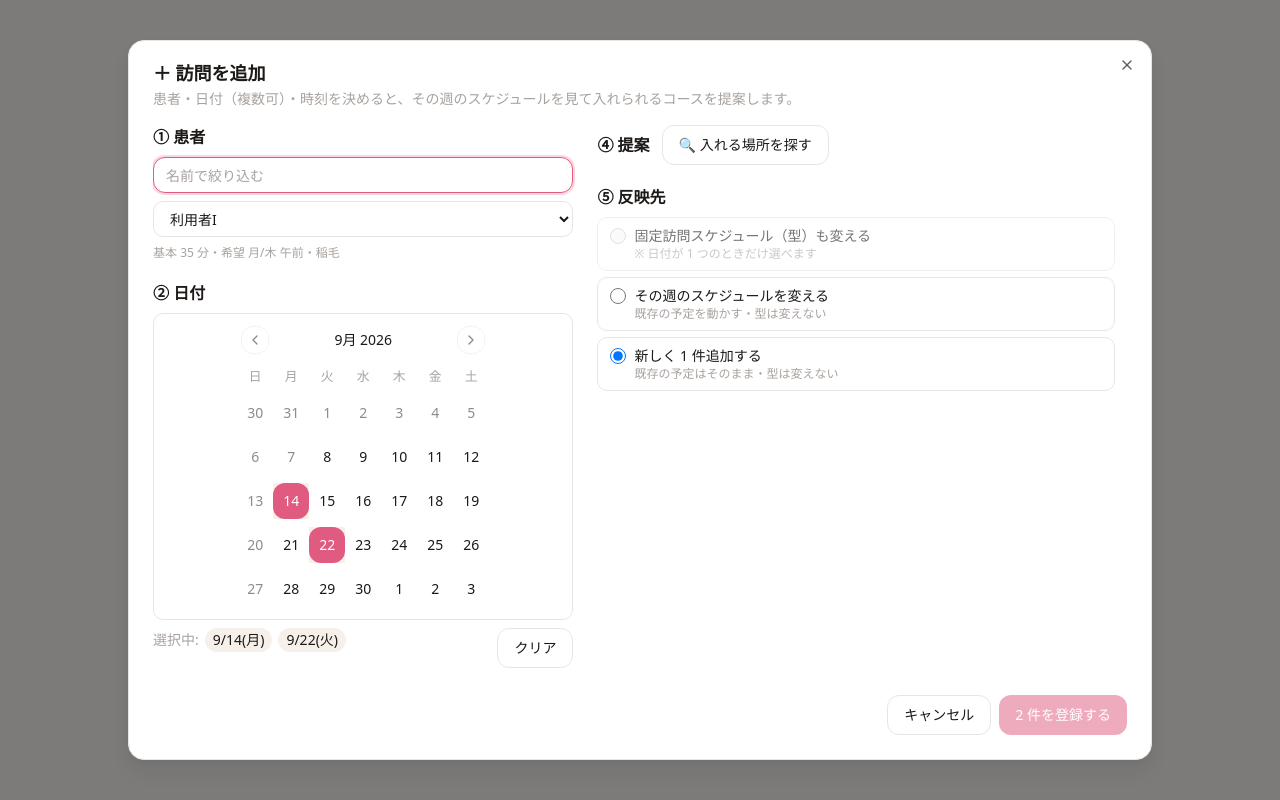
Test: AddVisitAnywhereDialog › ③④ 提案は ISO 週ごとに 1 回 (固定・曜日) で、BE の 1 位が既定選択になる
Click the button with test id "ava-propose".
click(745, 145)  # box [662,125,829,165]
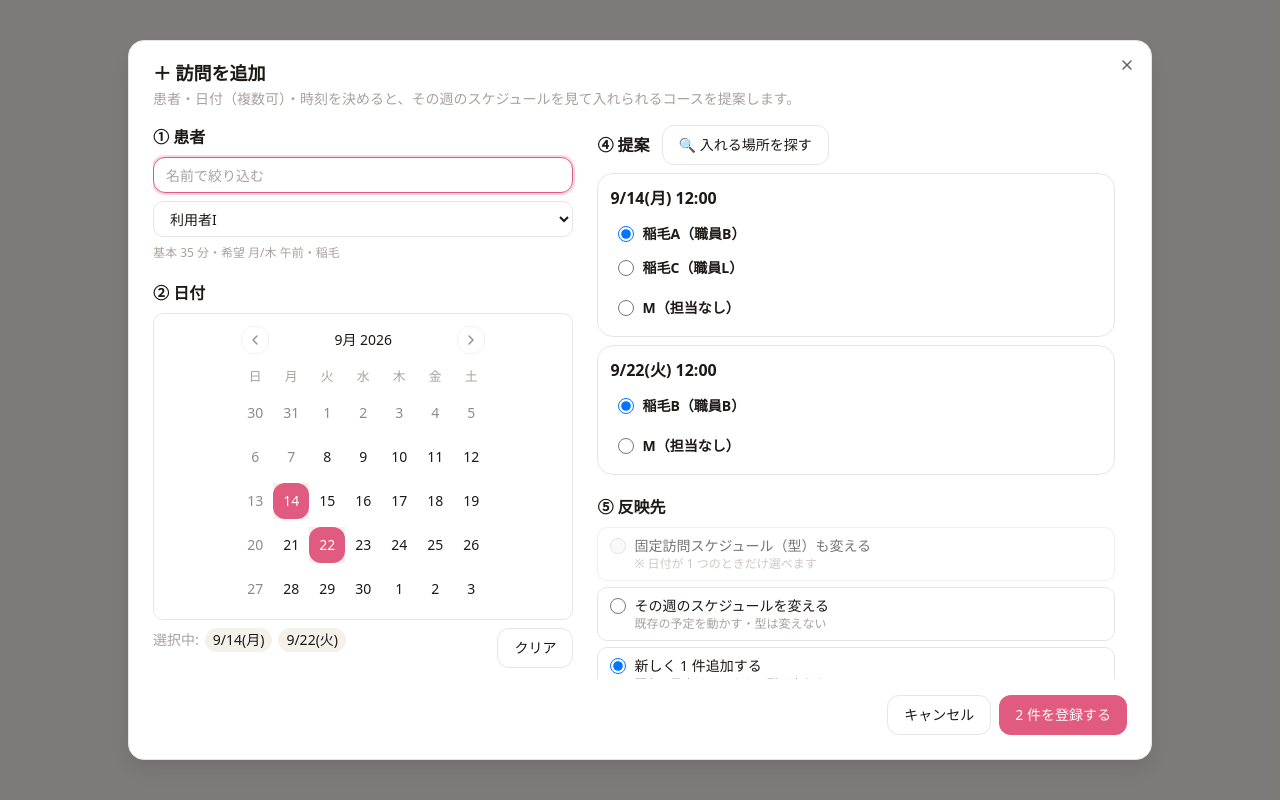
Result: the element with test id "ava-row-2026-09-14" shows "稲毛A（職員B）" at [597,173,1115,337]
Result: the element with test id "ava-row-2026-09-14" shows "稲毛C（職員L）" at [597,173,1115,337]
Result: the radio button with test id "ava-cand-2026-09-14-p0" is checked at [618,226,634,242]
